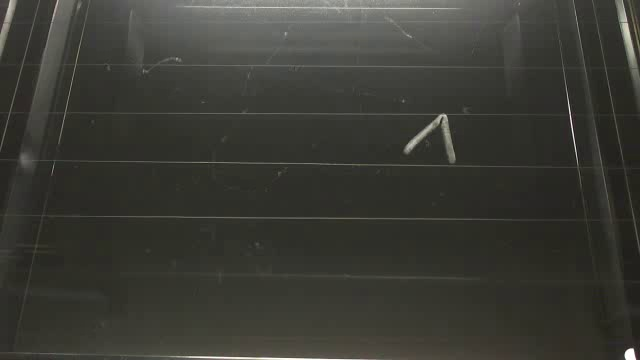Alfa: (400, 112, 441, 156), (440, 112, 461, 168)
